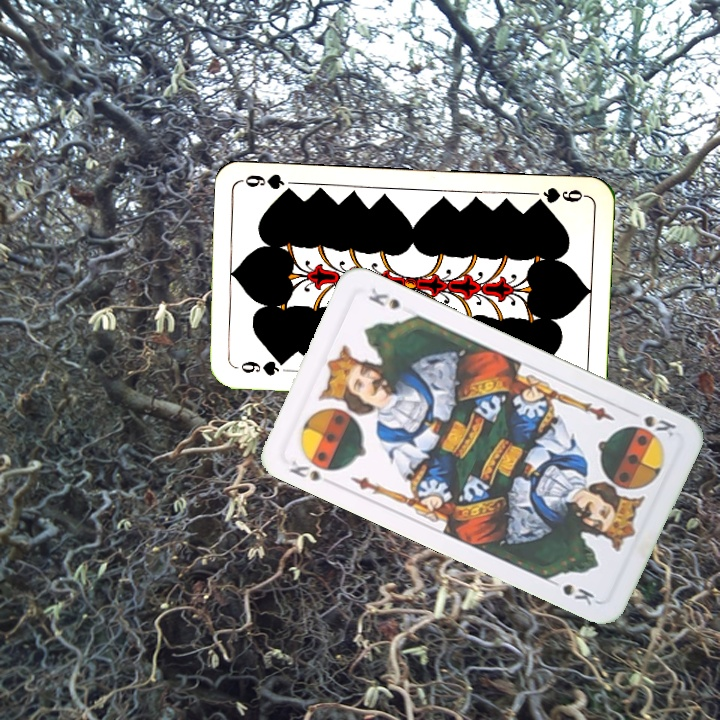G9: (529, 184, 589, 209), (231, 356, 290, 378)
SK: (640, 411, 679, 441), (285, 456, 323, 484)
